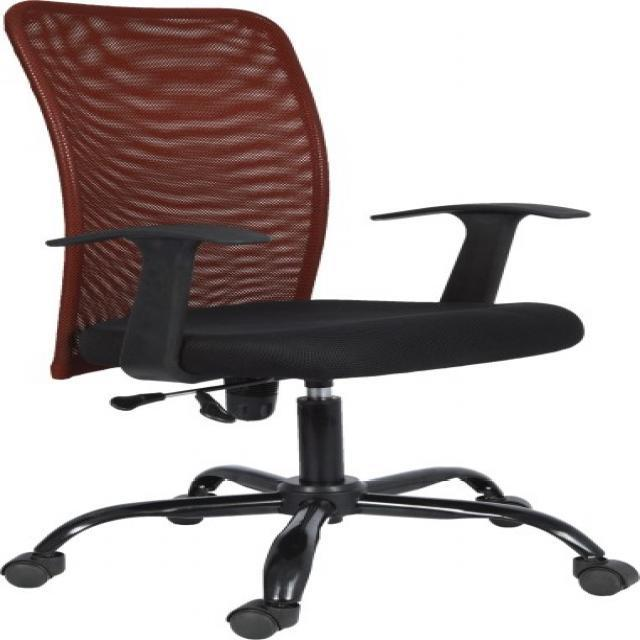chair: (11, 9, 605, 575)
